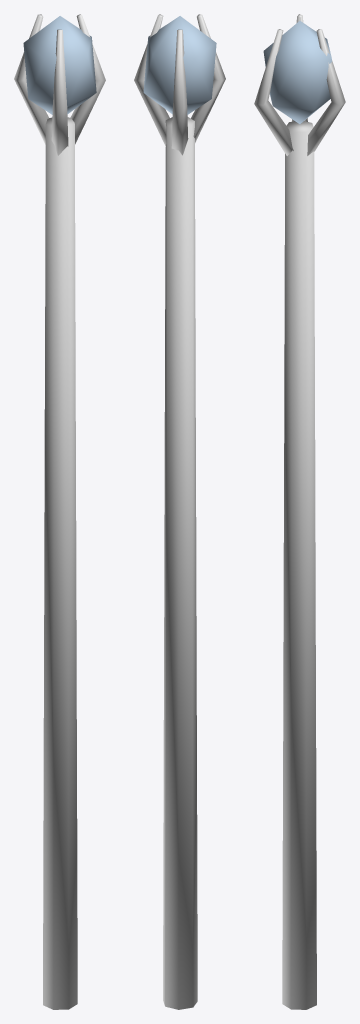
The model's file is weather_pain.glb.
The picture shows the model from 3 angles, left to right: view 1: azimuth 30°, elevation 25°; view 2: azimuth 150°, elevation 25°; view 3: azimuth 330°, elevation 25°; orthographic projection.
Parts seen in each view (by area): view 1: weather_pain_v0; view 2: weather_pain_v0; view 3: weather_pain_v0.
Boxes of the visible parts, x1,y1,x2,y2 form: weather_pain_v0: [14, 14, 105, 1009]; weather_pain_v0: [134, 14, 225, 1009]; weather_pain_v0: [254, 14, 345, 1009].
Size of the model in its own units: 0.1164 by 1.46 by 0.1182.
